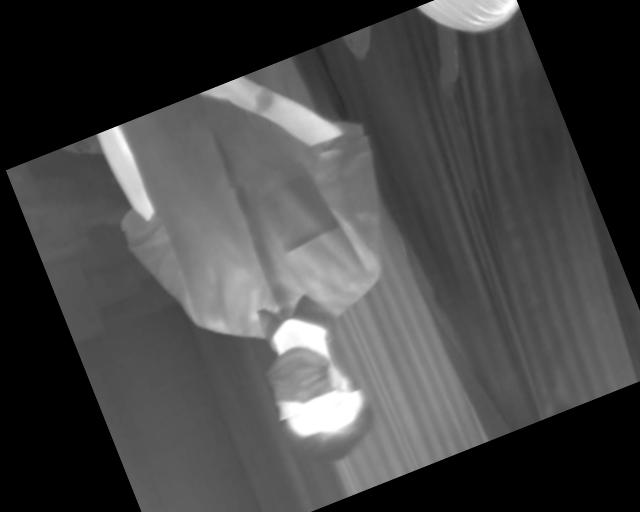face: (255, 328, 387, 477)
